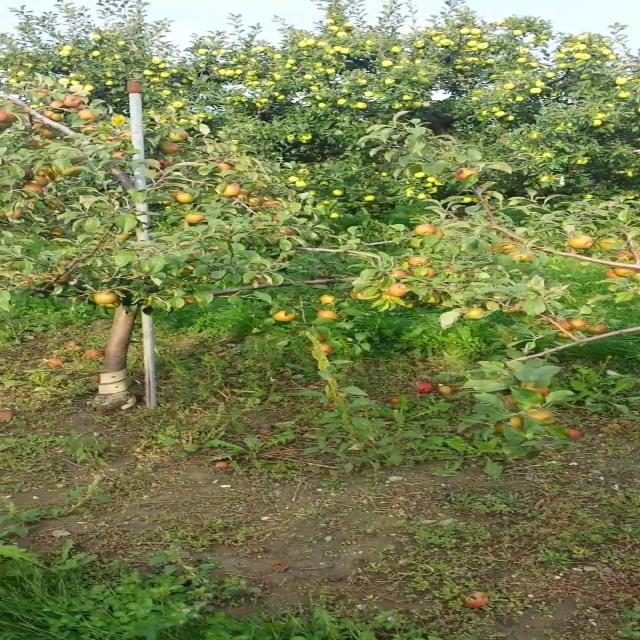apple: (497, 416, 526, 435), (568, 236, 596, 249), (525, 384, 551, 398), (305, 344, 334, 356), (525, 412, 555, 423), (92, 292, 119, 304), (77, 108, 100, 122), (148, 160, 176, 171), (511, 252, 535, 264), (454, 168, 478, 180), (63, 164, 85, 177), (589, 324, 612, 336), (220, 184, 242, 196), (63, 96, 85, 108), (28, 176, 52, 187), (35, 168, 59, 179), (490, 244, 519, 253), (276, 312, 299, 323), (77, 124, 100, 135), (390, 284, 411, 296), (412, 256, 432, 268), (504, 304, 524, 316), (483, 300, 503, 312), (248, 180, 268, 192), (177, 192, 196, 204), (6, 208, 25, 220), (163, 144, 185, 154), (170, 132, 192, 142), (42, 168, 60, 180), (419, 224, 436, 236), (468, 308, 485, 320), (504, 396, 521, 408), (99, 300, 121, 309), (390, 288, 411, 297), (49, 112, 66, 123), (618, 268, 638, 277), (319, 344, 334, 356), (248, 196, 263, 208), (618, 252, 638, 261), (28, 140, 48, 149), (234, 196, 252, 206), (49, 228, 69, 237), (156, 160, 176, 169), (28, 200, 43, 212), (319, 312, 341, 320), (184, 216, 206, 224), (28, 184, 44, 195), (419, 268, 436, 278), (49, 100, 66, 110), (255, 276, 272, 286), (113, 116, 128, 127), (604, 240, 622, 249), (191, 248, 204, 260), (35, 120, 52, 129), (561, 332, 580, 340), (248, 184, 267, 192), (44, 128, 57, 139), (319, 296, 336, 304), (561, 332, 578, 340), (262, 200, 279, 208), (205, 244, 222, 252), (575, 320, 590, 329), (426, 296, 441, 305), (184, 296, 199, 305), (49, 200, 64, 209), (404, 300, 420, 308), (220, 164, 235, 172), (284, 228, 299, 236), (113, 152, 128, 160), (6, 112, 18, 122), (319, 272, 334, 280), (120, 132, 135, 140), (554, 324, 571, 331), (255, 220, 268, 229), (120, 232, 133, 241), (390, 272, 409, 278), (269, 216, 283, 224), (35, 92, 50, 99), (312, 336, 327, 343), (355, 292, 368, 300), (163, 200, 176, 208), (184, 268, 197, 275), (319, 332, 327, 343), (177, 244, 188, 251), (611, 272, 619, 279)
